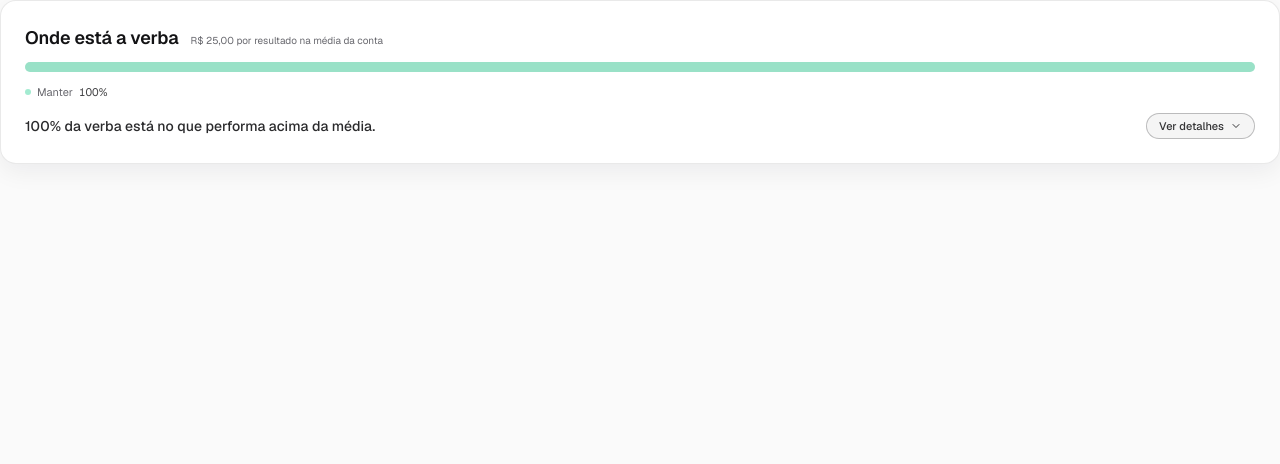
it: o detalhe das faixas › a tabela mostra as cinco faixas, inclusive as vazias
Click the button "Ver detalhes".
click(1200, 126)  # box x1=1146 y1=113 x2=1255 y2=139
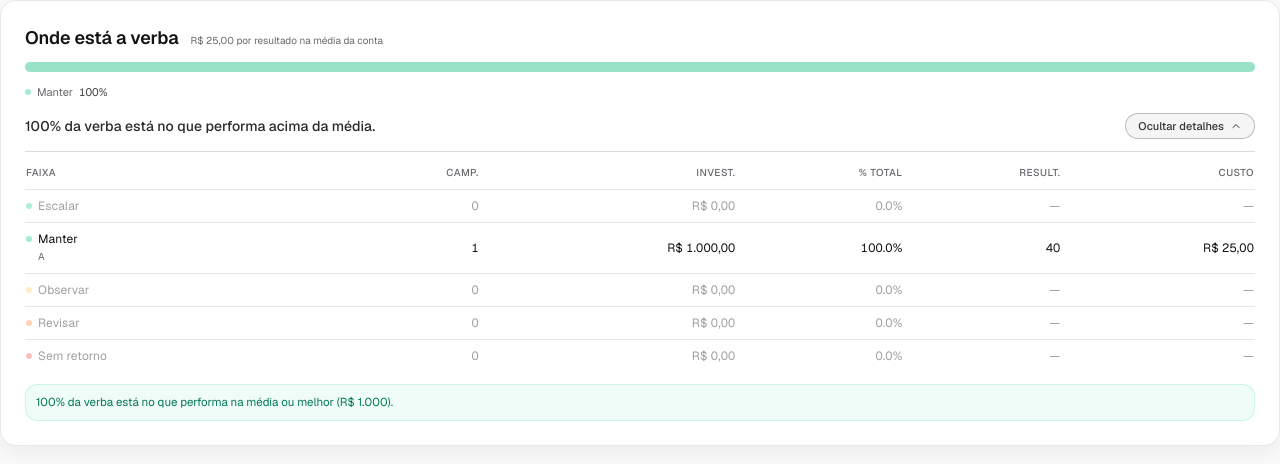
Result: the text "Escalar" is shown at x1=38 y1=198 x2=80 y2=214
Result: the text "Observar" is shown at x1=38 y1=282 x2=90 y2=298
Result: the text "Revisar" is shown at x1=38 y1=315 x2=80 y2=331
